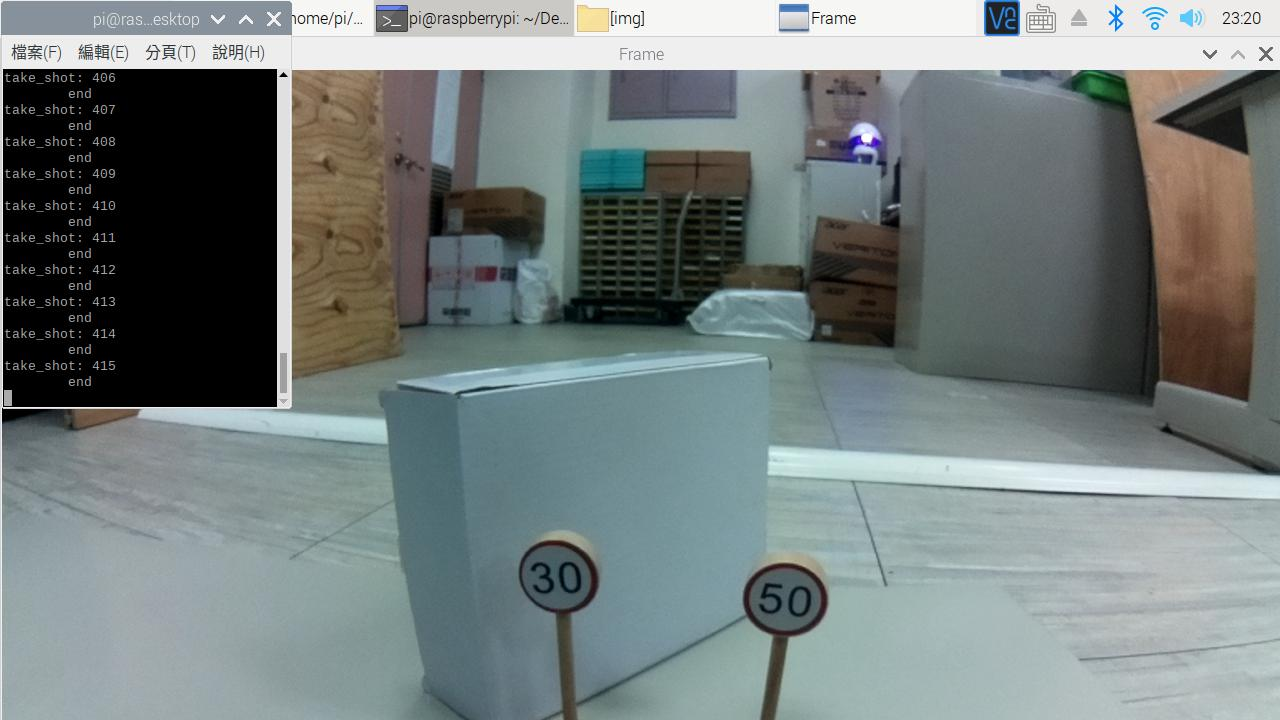Speed30: (505, 525, 614, 635)
Speed50: (726, 538, 857, 653)
